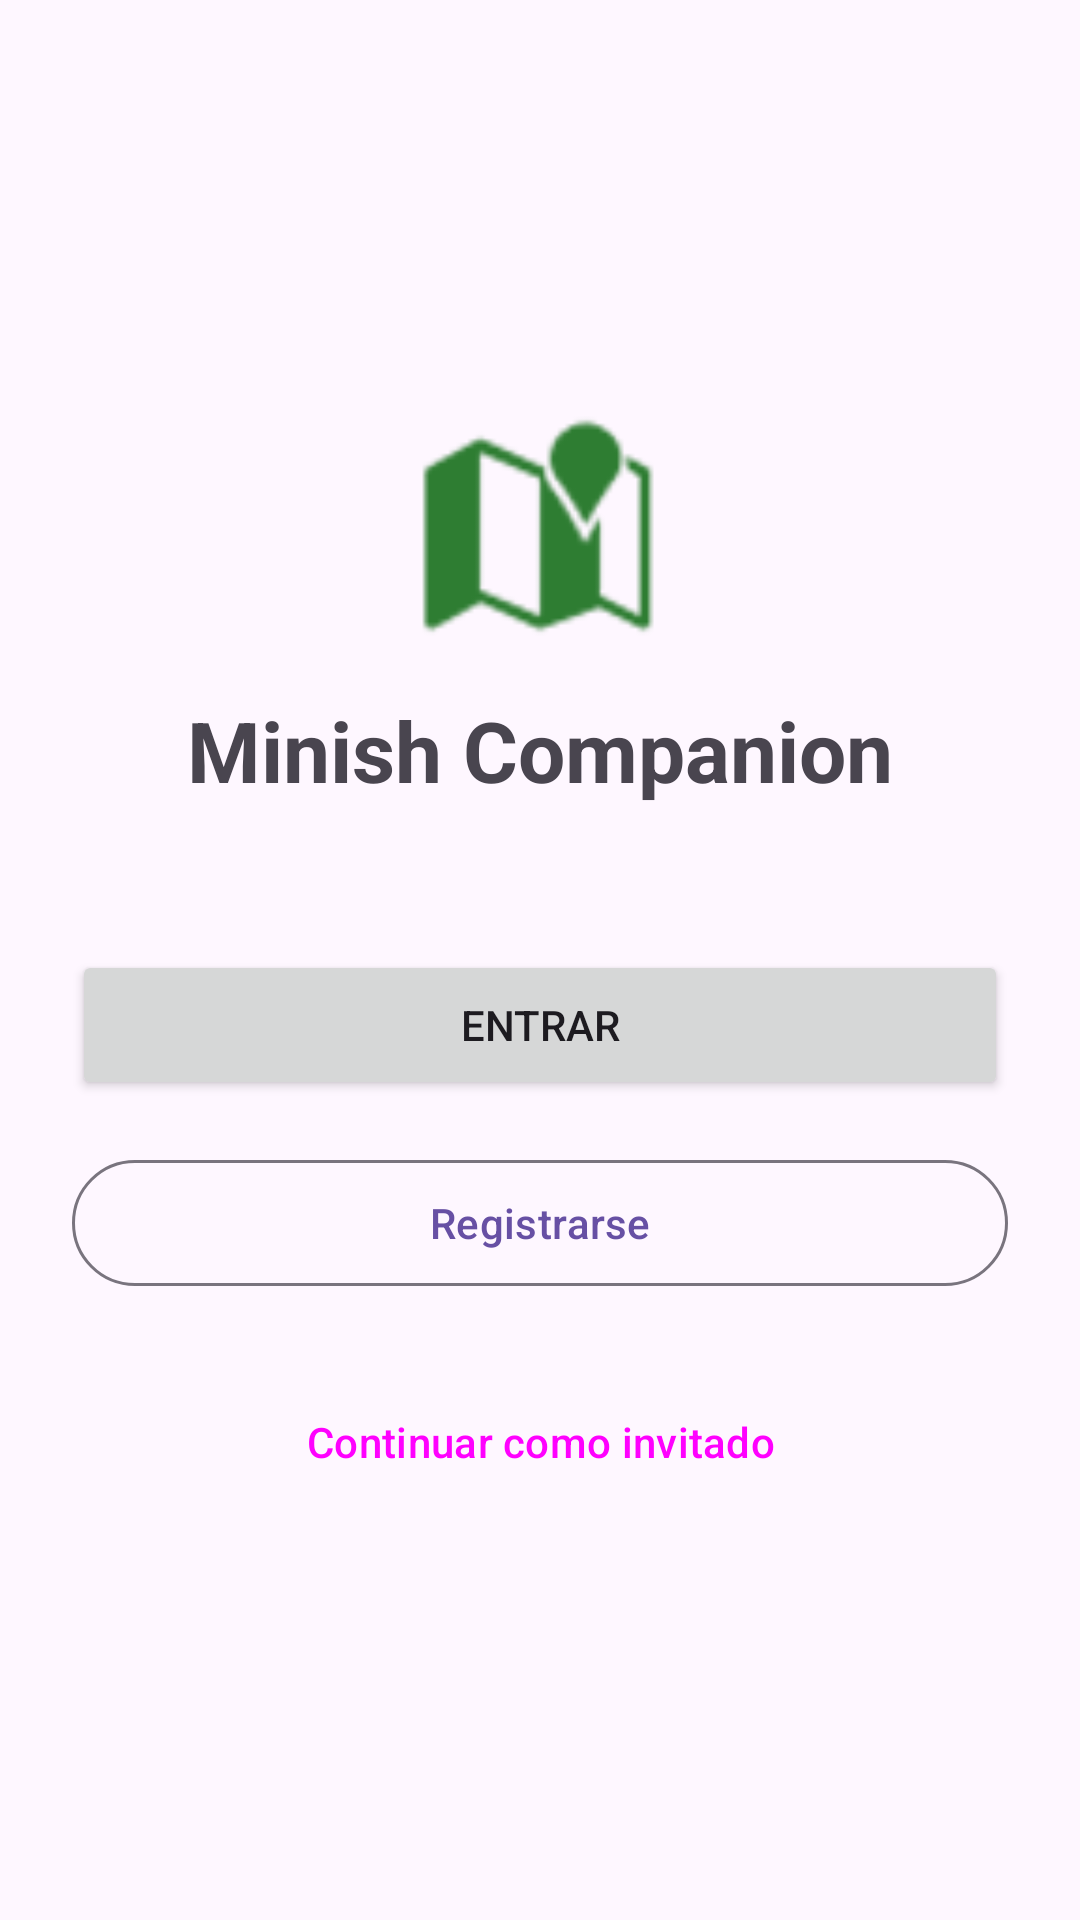

Where to tap for icons on this 1080*1920 app screen, as (x=x, y=y):
map: (x=538, y=526)
